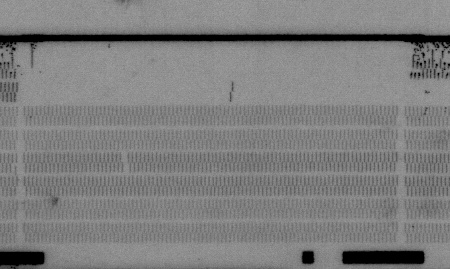Broken hole: (4, 38, 450, 104), (118, 149, 132, 173)
Oblique printing: (9, 163, 20, 177)
